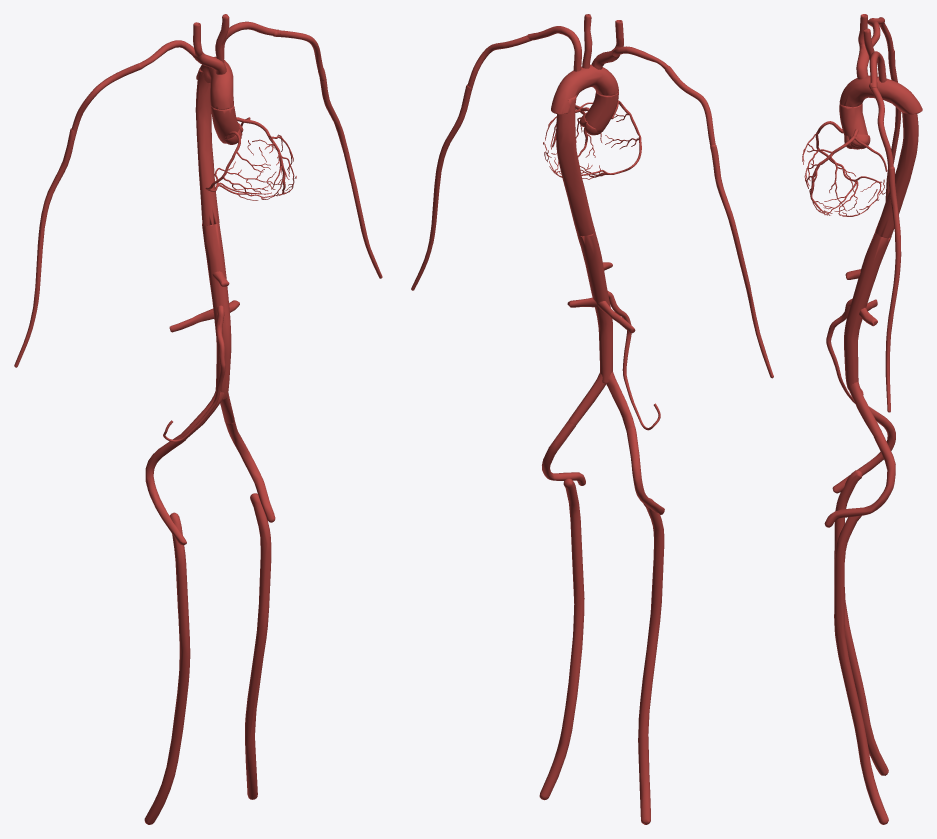
Rendered from aorta.glb.
The picture shows the model from 3 angles, left to right: view 1: azimuth 30°, elevation 25°; view 2: azimuth 150°, elevation 25°; view 3: azimuth 270°, elevation 25°; orthographic projection. The views are drawn at different scales.
Parts seen in each view (by area): view 1: rightLeg, leftLeg, descending, abdominal, rightArm, coronary, leftArm, arch, sma, ascending; view 2: leftLeg, rightLeg, descending, abdominal, rightArm, leftArm, arch, coronary, ascending, sma, leftSubclavian; view 3: leftLeg, rightLeg, abdominal, leftArm, descending, coronary, arch, rightArm, ascending, leftIliac, sma, leftSubclavian (+2 smaller).
Part boxes in pixels (box(x1,y1,x2,y2)): rightLeg: box(144, 434, 190, 824); leftLeg: box(225, 421, 275, 799); descending: box(195, 68, 219, 226); abdominal: box(202, 223, 231, 399); rightArm: box(14, 63, 140, 367); coronary: box(205, 117, 296, 200); leftArm: box(273, 30, 382, 278); arch: box(196, 56, 233, 109); sma: box(163, 305, 225, 442); ascending: box(211, 105, 240, 143); leftLeg: box(539, 420, 585, 800); rightLeg: box(626, 427, 664, 824); descending: box(556, 95, 594, 236); abdominal: box(577, 231, 612, 383); rightArm: box(665, 66, 773, 378); leftArm: box(411, 35, 531, 290); arch: box(551, 64, 618, 114); coronary: box(543, 100, 641, 179); ascending: box(584, 91, 618, 132); sma: box(607, 291, 660, 430); leftSubclavian: box(527, 26, 581, 71); leftLeg: box(824, 434, 895, 824); rightLeg: box(832, 406, 895, 775); abdominal: box(844, 232, 891, 390); leftArm: box(869, 83, 901, 412); descending: box(875, 112, 918, 238); coronary: box(802, 121, 887, 216); arch: box(839, 75, 922, 114); rightArm: box(870, 17, 901, 201); ascending: box(839, 103, 867, 149); leftIliac: box(849, 381, 882, 437); sma: box(826, 298, 863, 403); leftSubclavian: box(869, 51, 886, 89).
Bounding box in the file's own units: 0.4348 × 0.9032 × 0.1267.
